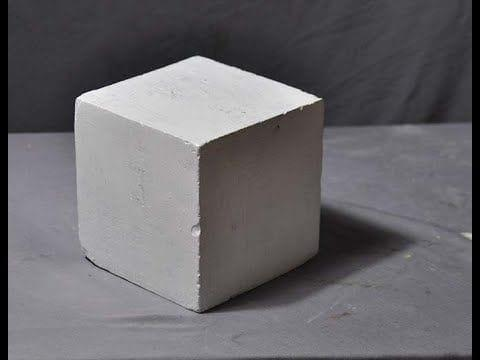cubos: (67, 50, 337, 321)
